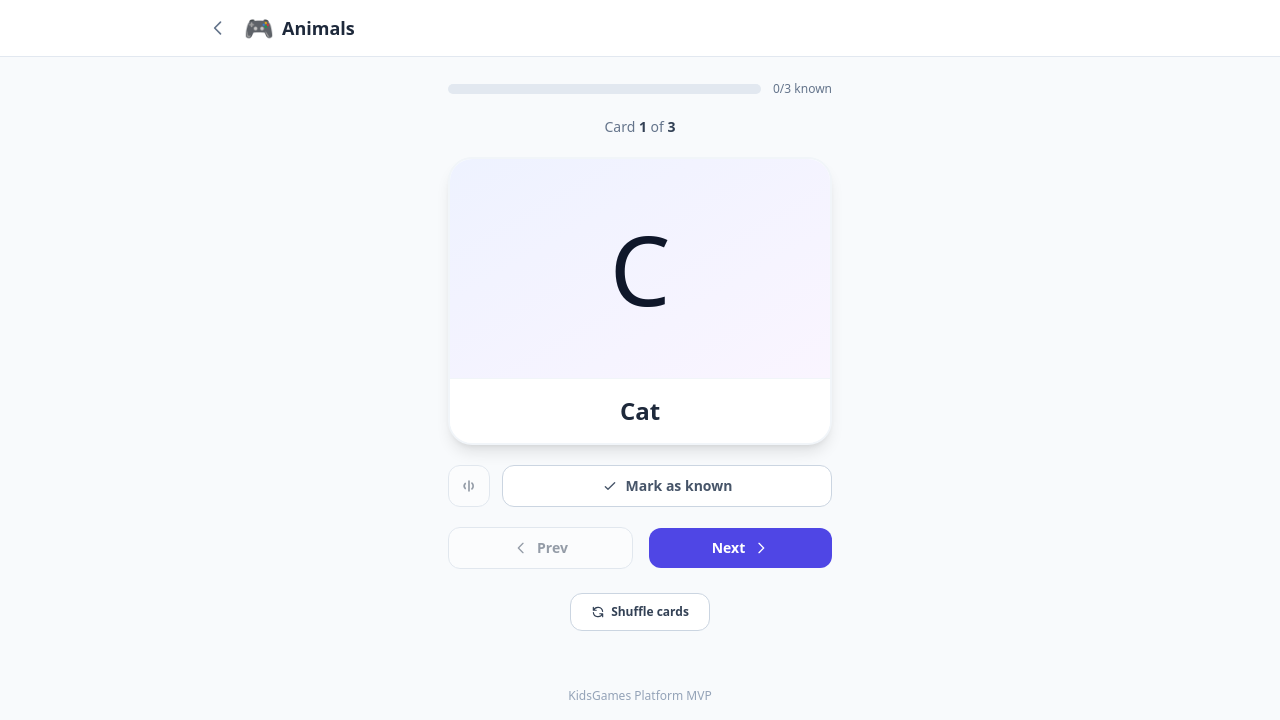
Test: FlashcardGamePage › navigates to next card on Next click
Expected: the text "Cat" is shown, x1=620 y1=394 x2=660 y2=427
Click the button with aria-label "next card" at (740, 548), box x1=649 y1=528 x2=832 y2=568
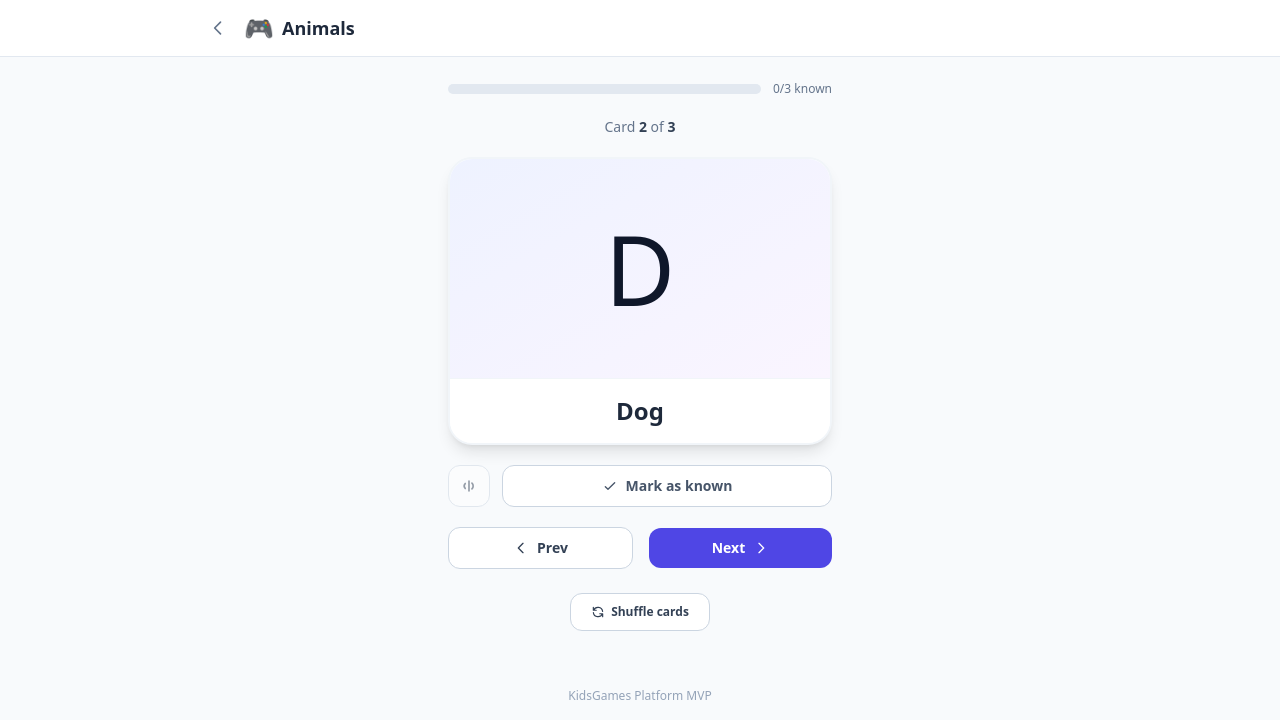
Result: the text "Dog" is shown at x1=616 y1=394 x2=664 y2=427
